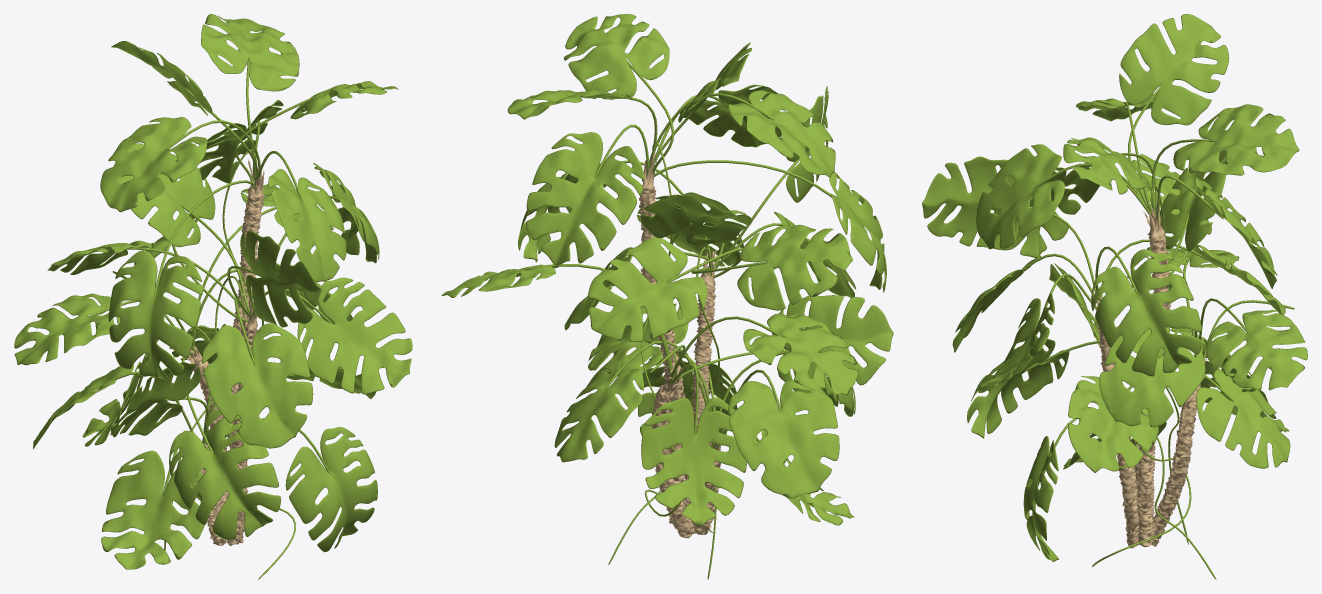
Rendered from Plant.fbx.
3 views of the same model, side by side, from view 1: azimuth 30°, elevation 25°; view 2: azimuth 150°, elevation 25°; view 3: azimuth 270°, elevation 25° (orthographic). The views are drawn at different scales.
Visible parts, largest first — view 1: plant; view 2: plant; view 3: plant.
Boxes of the visible parts, box(x1,y1,x2,y2) form: plant: box(14, 14, 412, 579); plant: box(441, 14, 893, 579); plant: box(922, 14, 1307, 579).
Size of the model in its own units: 159 by 225 by 153.
